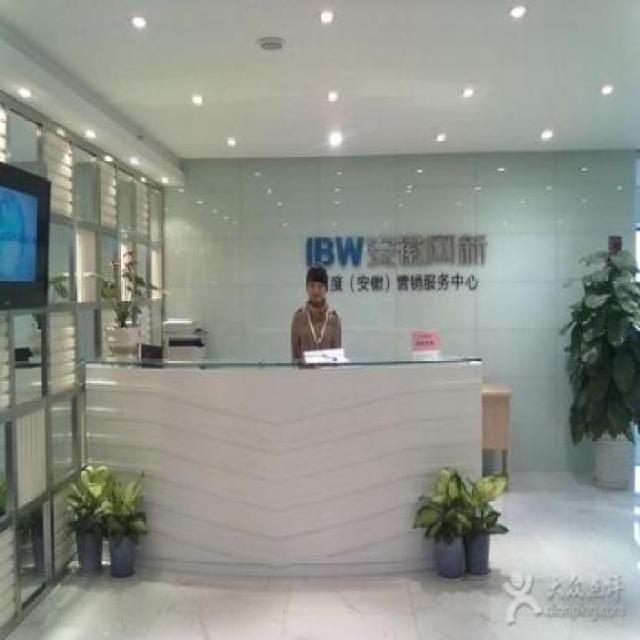frontdesk: (76, 338, 492, 584)
